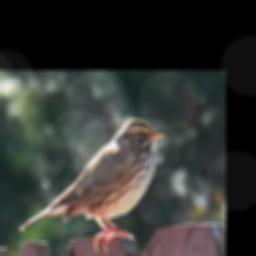Sparrow: (20, 115, 167, 250)
